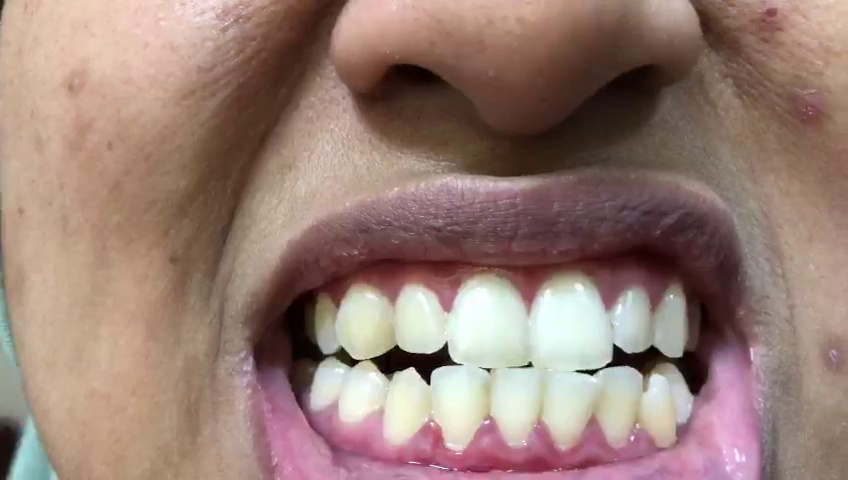1st Premolar: (337, 360, 385, 428), (656, 360, 693, 423), (310, 286, 338, 357)
2nd Premolar: (307, 360, 344, 414)
Canine: (338, 280, 396, 359), (384, 363, 430, 444), (653, 277, 691, 359), (640, 374, 680, 446)
Central Incisor: (527, 271, 615, 372), (447, 276, 527, 367), (542, 368, 598, 453), (490, 365, 541, 448)
Lateral Incisor: (429, 362, 486, 459), (391, 279, 447, 355), (594, 367, 640, 449), (610, 282, 655, 354)
